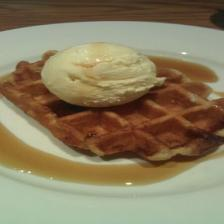ice cream: (40, 38, 159, 108)
waffles: (1, 70, 224, 163)
